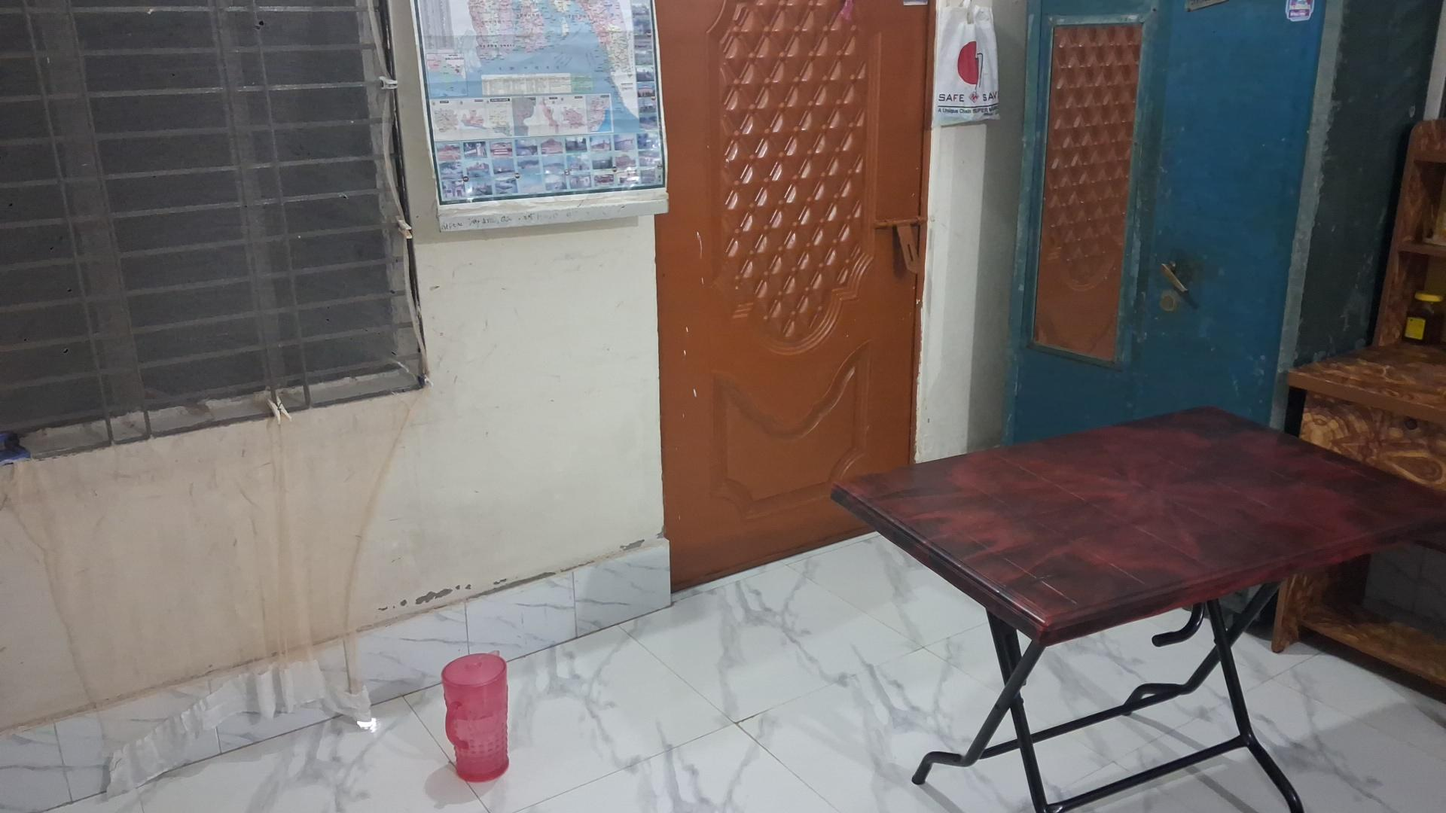Bag: (936, 8, 1010, 123)
Door: (640, 0, 945, 582)
Jar: (1403, 288, 1441, 345)
Jug: (430, 659, 531, 783)
Table: (822, 402, 1446, 813)
Window: (0, 0, 425, 431)
